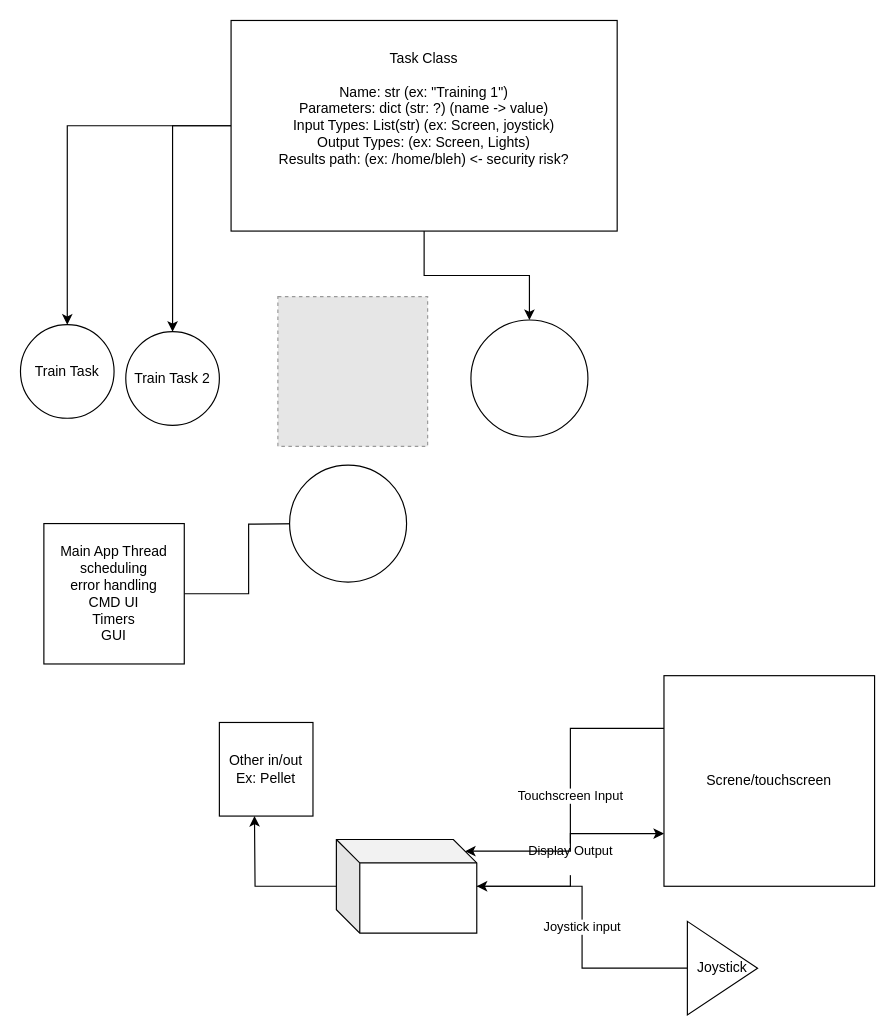
Image size: 895x1035. Some labels were removed from this diagram. Grey dashed boxes stand in for pictures. The shapes that lost their labels are listed below. From the top down, each one's centre as x and y in pixels, then its label:
[529,378]: Task #300
[347,523]: Task Thread Game loop Sprites etc.
[406,885]: Raspberry Pi
